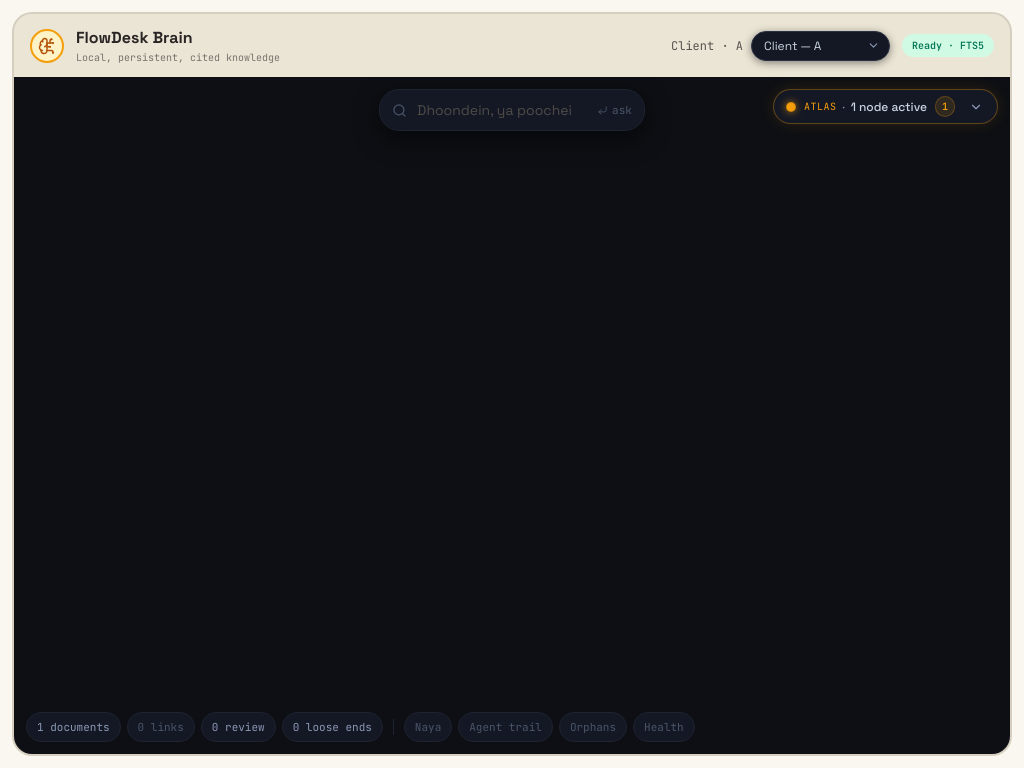
Scenario: Brain document reader › names the turns that read this document and opens one
Expected: the text "Client · A" is shown, [671,38,743,54]
In the search field: coordinates (502, 110) [417,100,587,120], type "Yasir"
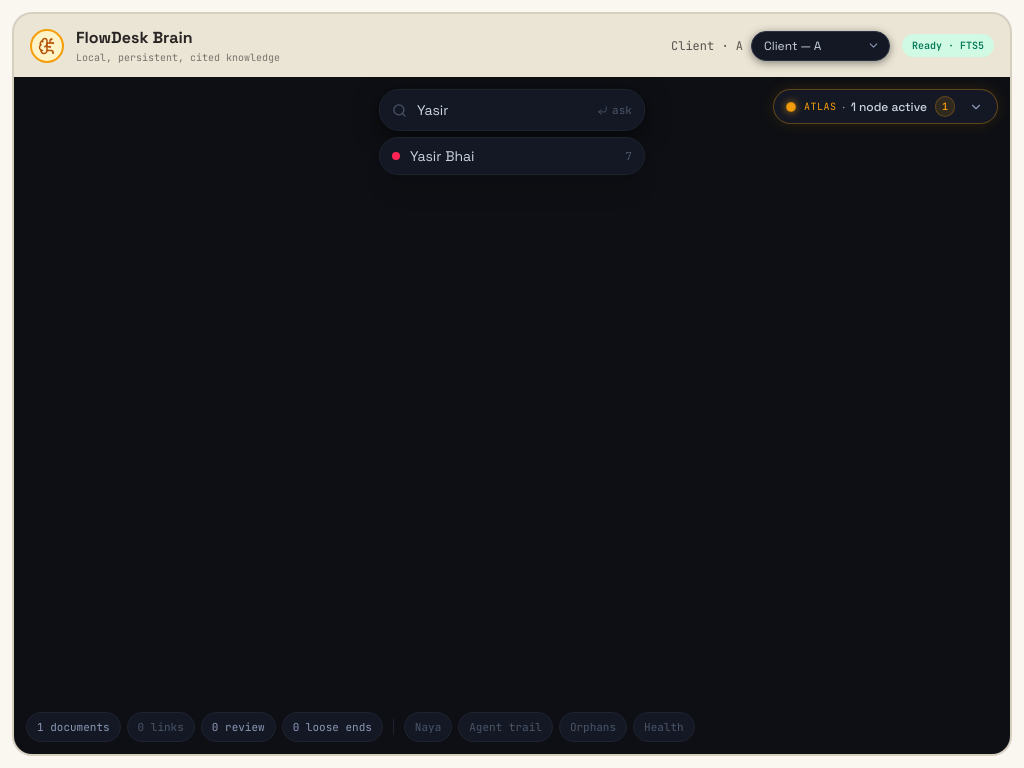
Click the button "Yasir Bhai 7": coordinates (442, 156) [380,138,644,174]
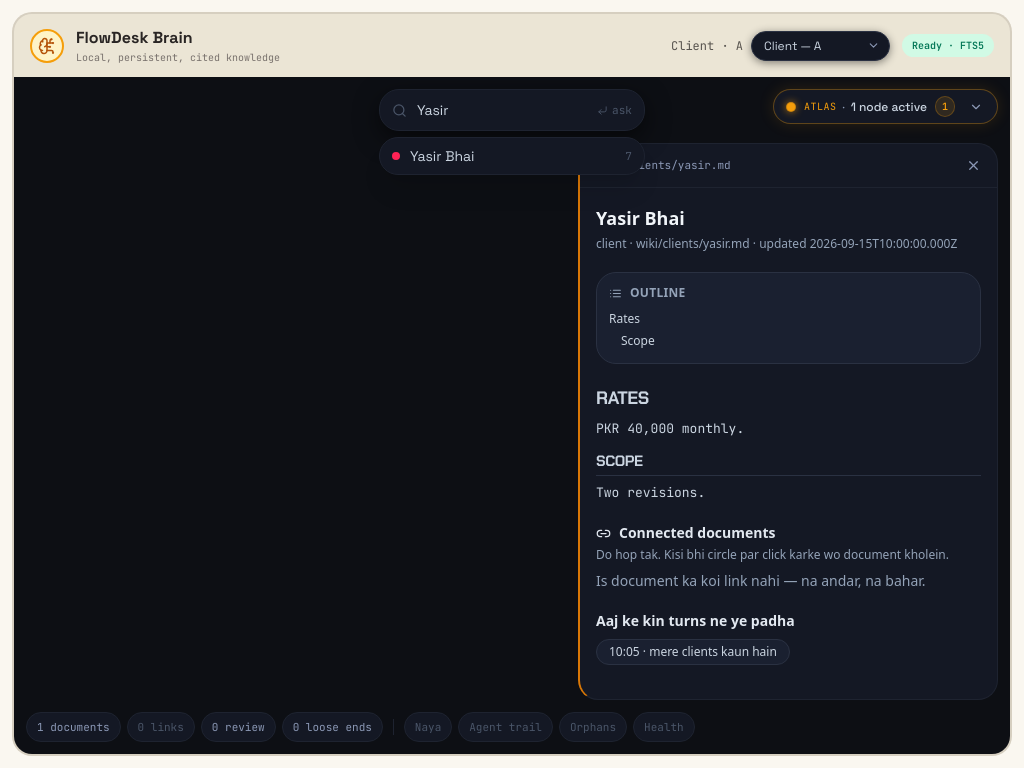
Expected: the heading "Yasir Bhai" is shown, [596,206,685,230]
Click the button "10:05 · mere clients kaun hain": coordinates (693, 652) [596,639,790,665]
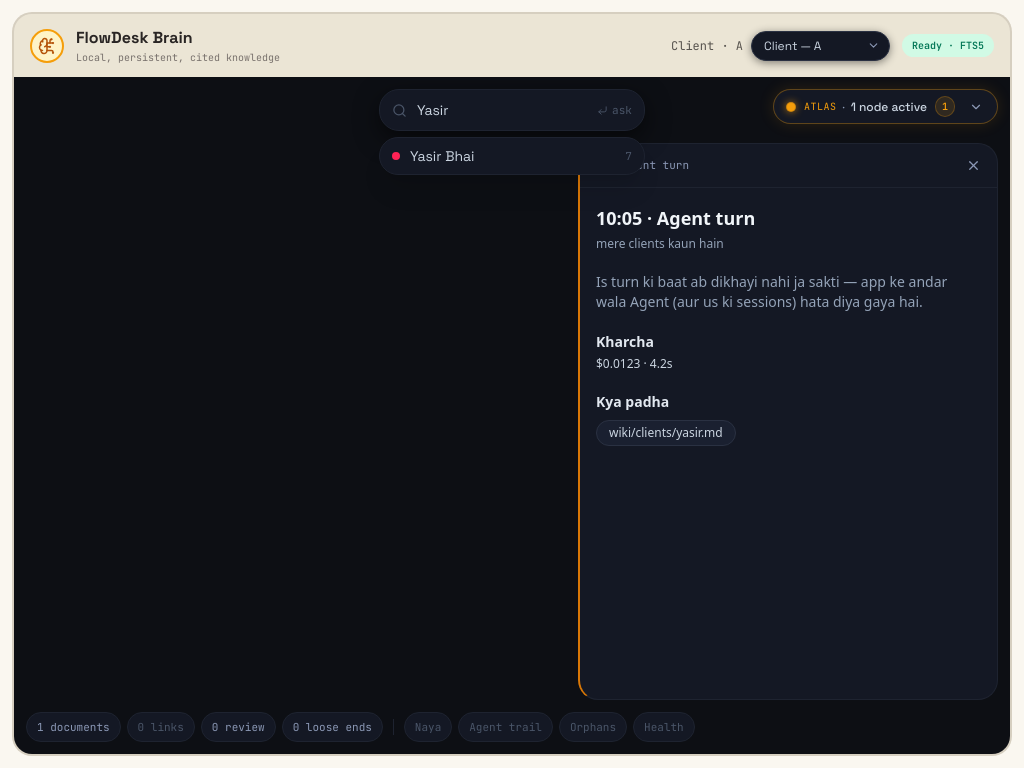
Expected: the navigation bar "Outline" is gone
